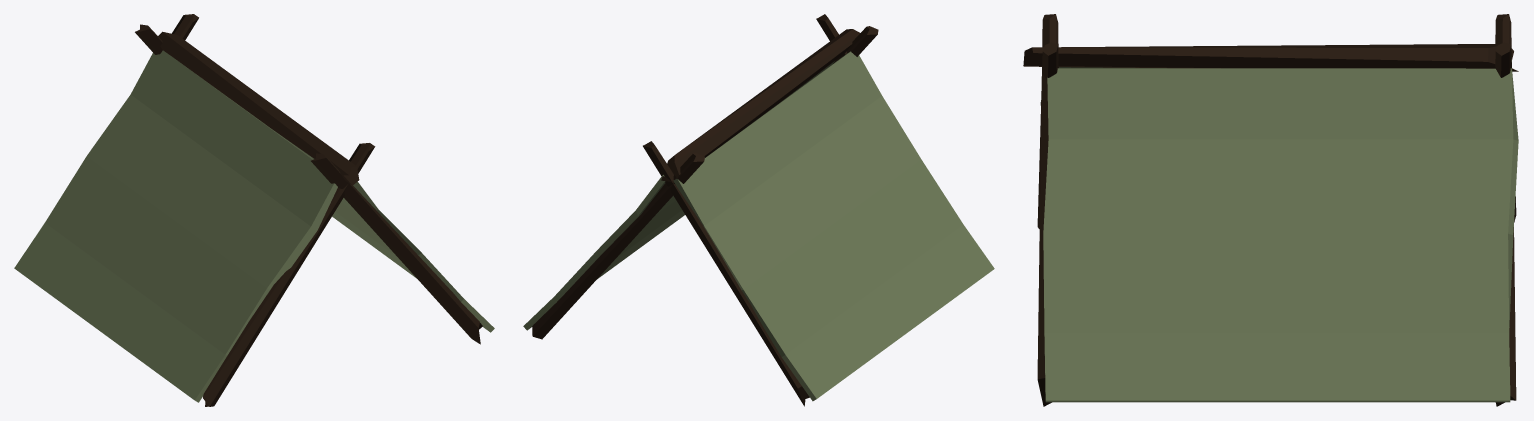
Rendered from Tent.fbx.
The picture shows the model from 3 angles, left to right: view 1: azimuth 30°, elevation 25°; view 2: azimuth 150°, elevation 25°; view 3: azimuth 270°, elevation 25°; orthographic projection. The views are drawn at different scales.
Visible parts, largest first — view 1: T.L, T, F.R, F.L, T.R, B.R; view 2: T.L, T, B.R, T.R, B.L, F.R; view 3: T.R, T, F.R, B.R, F.L, B.L.
Part boxes in pixels (box(x1,y1,x2,y2)): T.L: box(14, 50, 337, 402); T: box(158, 31, 359, 185); F.R: box(311, 153, 482, 344); F.L: box(203, 143, 375, 406); T.R: box(272, 129, 494, 332); B.R: box(135, 24, 162, 54); T.L: box(673, 51, 994, 401); T: box(661, 29, 859, 182); B.R: box(532, 153, 704, 339); T.R: box(523, 61, 834, 330); B.L: box(643, 141, 809, 406); F.R: box(833, 26, 878, 63); T.R: box(1043, 68, 1518, 402); T: box(1023, 44, 1518, 71); F.R: box(1037, 14, 1058, 406); B.R: box(1495, 14, 1516, 406); F.L: box(1037, 42, 1058, 228); B.L: box(1495, 42, 1516, 222).
Size of the model in its own units: 765 by 555 by 854.
